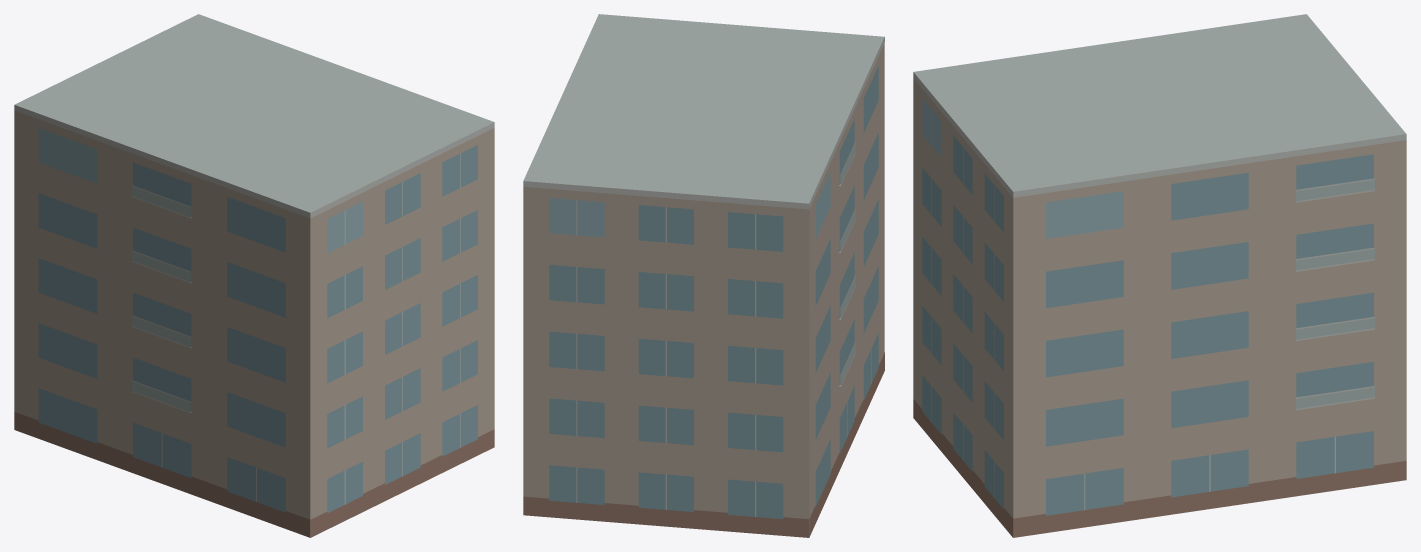
The model's file is survey-upis-32974078.glb.
3 renders of one model, left to right at view 1: azimuth 30°, elevation 25°; view 2: azimuth 150°, elevation 25°; view 3: azimuth 270°, elevation 25°, orthographic. The views are drawn at different scales.
Parts seen in each view (by area): view 1: survey-upis-32974078.tmp; view 2: survey-upis-32974078.tmp; view 3: survey-upis-32974078.tmp.
Part boxes in pixels (x1,y1,x2,y2): survey-upis-32974078.tmp: (14,14,494,537); survey-upis-32974078.tmp: (523,14,884,537); survey-upis-32974078.tmp: (913,14,1406,537).
Size of the model in its own units: 15.67 by 14.2 by 18.36.
